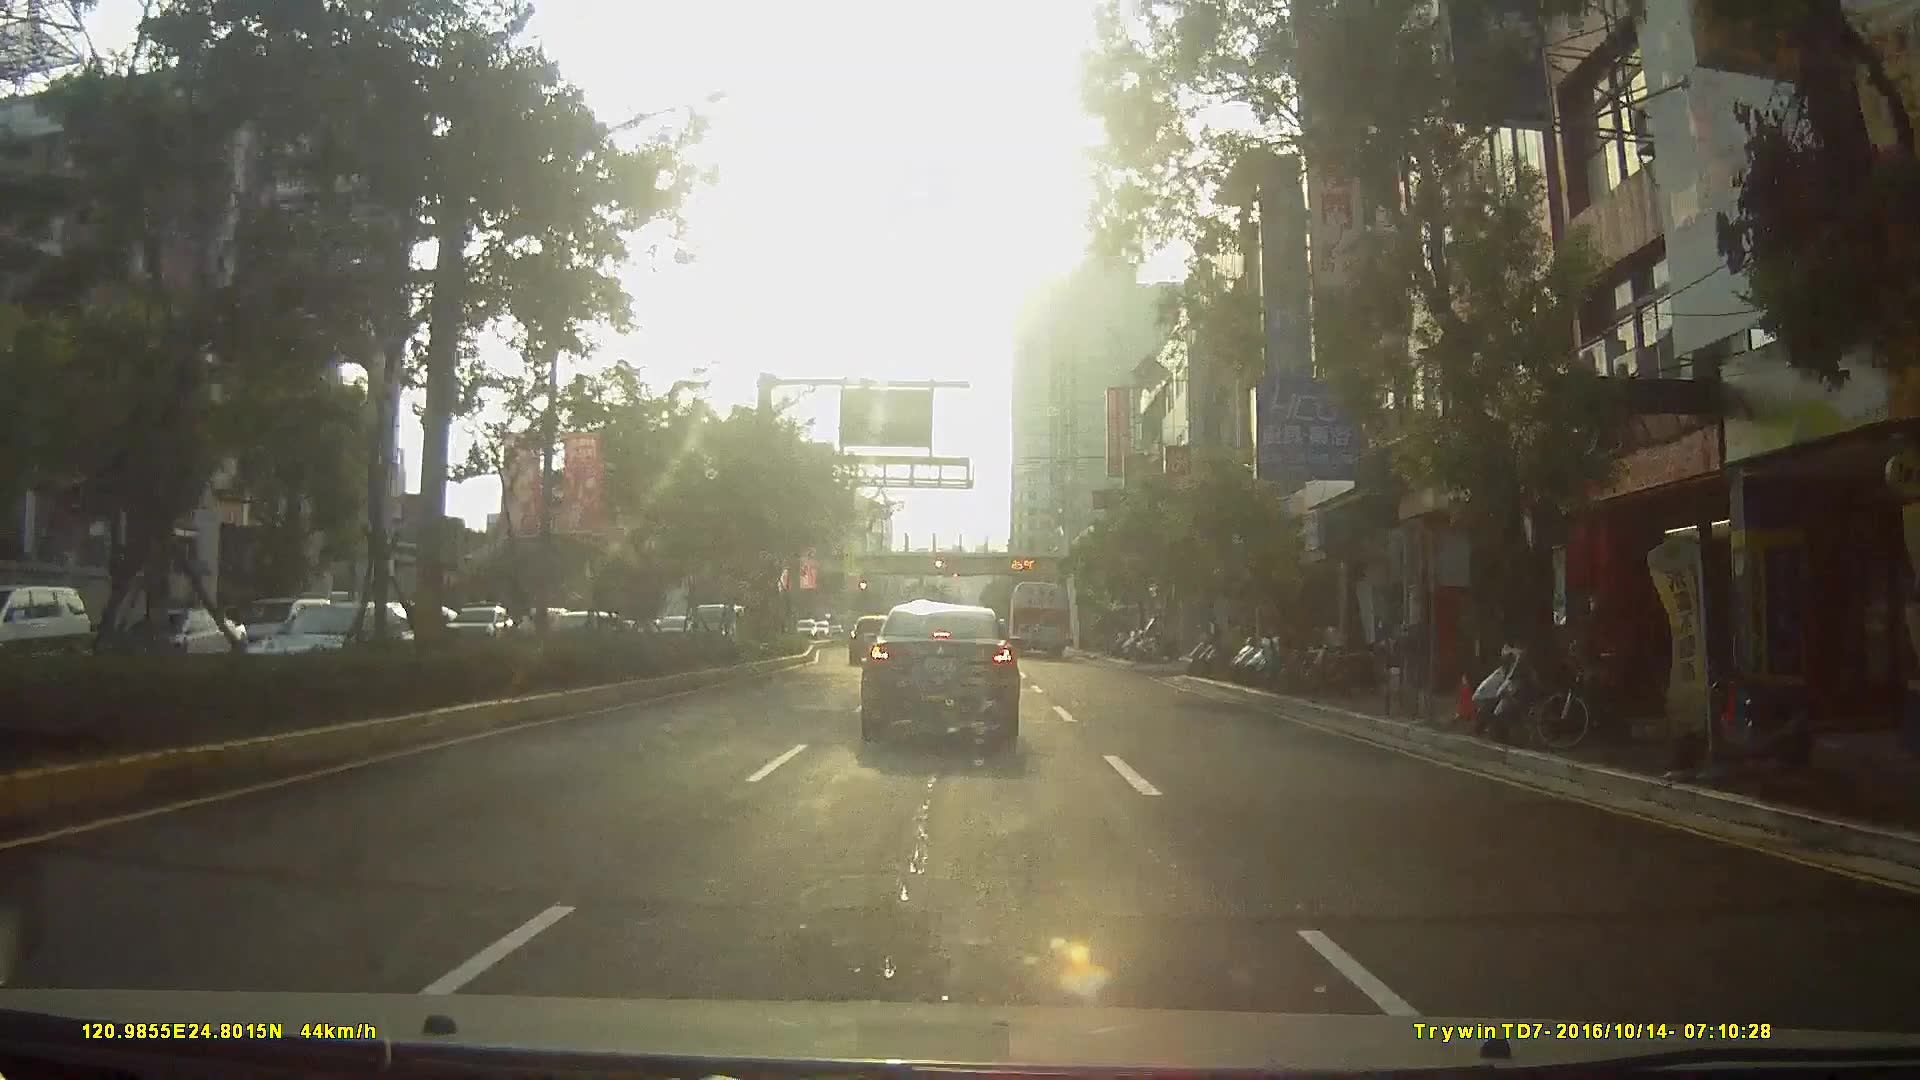vehicle: (858, 605, 1021, 744), (105, 611, 253, 679), (1, 584, 83, 675), (225, 597, 327, 665), (1006, 579, 1072, 658), (323, 601, 407, 659), (440, 605, 512, 647), (847, 611, 895, 662)
